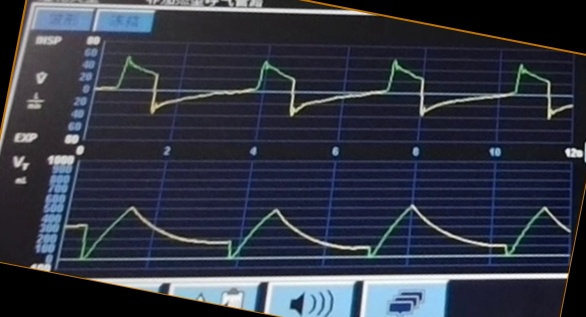Flow: (104, 52, 565, 136)
Leakage Volume: (75, 184, 563, 270)
